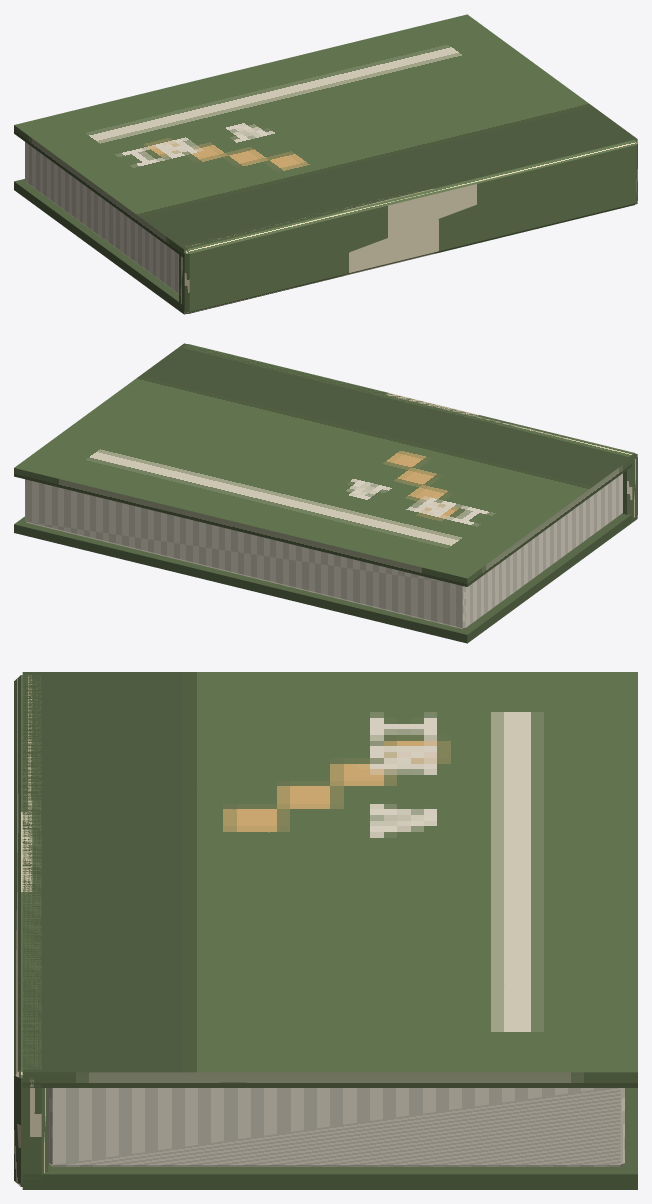
The model's file is book_fict_hard_ya_dark.glb.
The picture shows the model from 3 angles, top to bottom: view 1: azimuth 30°, elevation 25°; view 2: azimuth 150°, elevation 25°; view 3: azimuth 270°, elevation 25°; orthographic projection. The views are drawn at different scales.
Parts seen in each view (by area): view 1: block_front, block_spine, block_pages, block_back; view 2: block_front, block_pages, block_back, block_spine; view 3: block_front, block_pages, block_back, block_spine.
Boxes of the visible parts, x1=… form: block_front: x1=14, y1=14, x2=637, y2=257; block_spine: x1=179, y1=140, x2=637, y2=313; block_pages: x1=25, y1=142, x2=178, y2=293; block_back: x1=14, y1=179, x2=637, y2=314; block_front: x1=14, y1=343, x2=637, y2=586; block_pages: x1=25, y1=473, x2=622, y2=629; block_back: x1=14, y1=513, x2=637, y2=643; block_spine: x1=183, y1=344, x2=637, y2=518; block_front: x1=22, y1=672, x2=637, y2=1087; block_pages: x1=48, y1=1088, x2=624, y2=1166; block_back: x1=22, y1=1088, x2=637, y2=1189; block_spine: x1=14, y1=675, x2=48, y2=1186.
Bounding box in the file's own units: 0.22 × 0.0302 × 0.145.
Materials: 1 (1 with a texture image).
